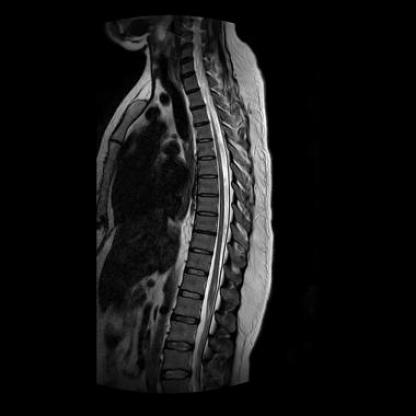Demyelinating Plaquesrotation: (197, 209, 219, 221), (197, 136, 217, 146)
Hemangiomatarotation: (188, 252, 211, 271), (194, 125, 215, 139)
